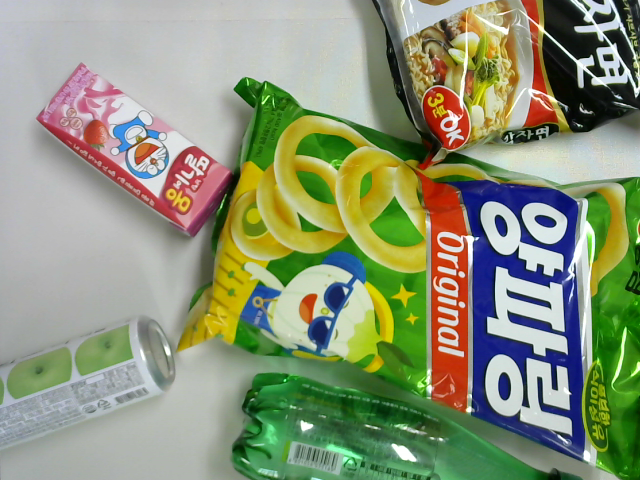Demisoda_Apple_Can_250ml: (1, 317, 175, 452)
Oninon_Ring: (174, 78, 639, 479)
Potato: (370, 1, 640, 169)
Strawberry_E_Mong: (36, 61, 234, 238)
Treviraim_500ml: (231, 372, 583, 480)
